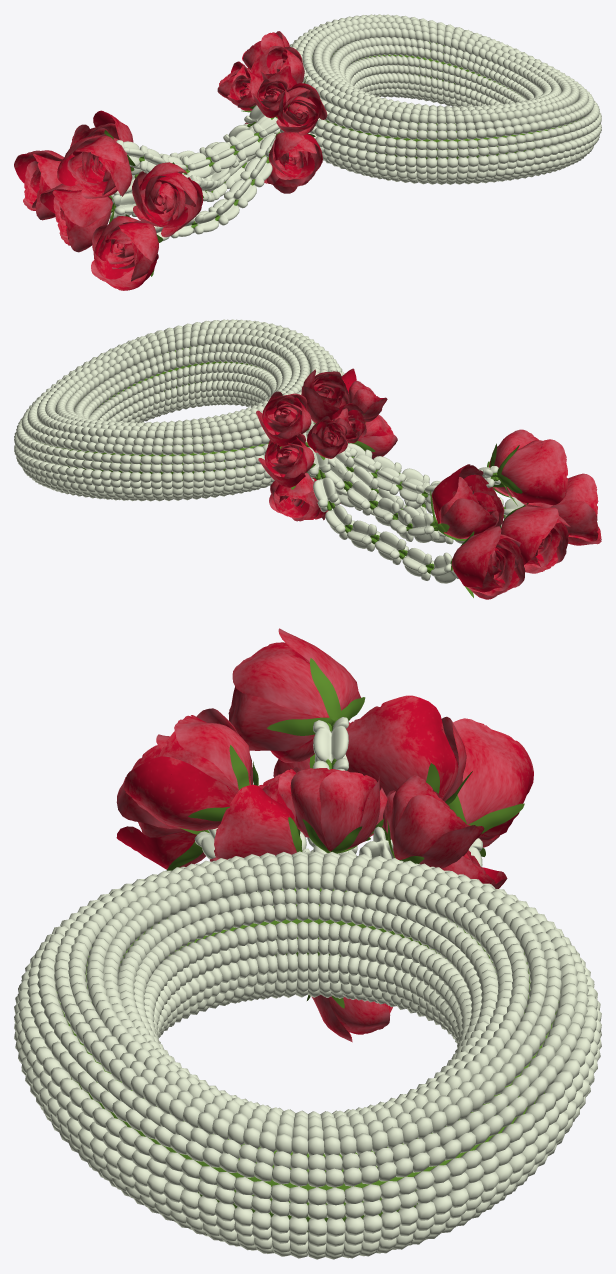
File: thai-garland.glb
3 views of the same model, one above another, from view 1: azimuth 30°, elevation 25°; view 2: azimuth 150°, elevation 25°; view 3: azimuth 270°, elevation 25° (orthographic). The views are drawn at different scales.
Visible parts, largest first — view 1: Torus.003_3, Plane.027_15, Cube.003_0, Cube.005_5, Cube.006_6, Cube.004_4, Torus.001_2, Cube.008_8; view 2: Torus.003_3, Plane.027_15, Cube.008_8, Cube.007_7, Cube.003_0, Cube.004_4, Cube.005_5, Torus.001_2, Cube.006_6; view 3: Torus.003_3, Plane.027_15, Torus.001_2, Cube.003_0.
Boxes of the visible parts, x1,y1,x2,y2 form: Torus.003_3: (289, 14, 601, 184); Plane.027_15: (14, 31, 327, 290); Cube.003_0: (116, 117, 279, 178); Cube.005_5: (154, 118, 283, 241); Cube.006_6: (184, 154, 260, 201); Cube.004_4: (109, 115, 277, 218); Torus.001_2: (312, 42, 583, 166); Cube.008_8: (111, 105, 264, 197); Torus.003_3: (14, 319, 344, 501); Plane.027_15: (256, 368, 601, 599); Cube.008_8: (303, 419, 458, 583); Cube.007_7: (324, 460, 440, 542); Cube.003_0: (344, 445, 500, 504); Cube.004_4: (313, 424, 501, 544); Cube.005_5: (348, 443, 524, 518); Torus.001_2: (33, 345, 315, 486); Cube.006_6: (311, 476, 434, 515); Torus.003_3: (14, 851, 601, 1259); Plane.027_15: (116, 628, 533, 1042); Torus.001_2: (56, 887, 558, 1231); Cube.003_0: (313, 717, 348, 855).
Size of the model in its own units: 0.81 by 0.2255 by 0.4447.
3 materials, 1 textured.
